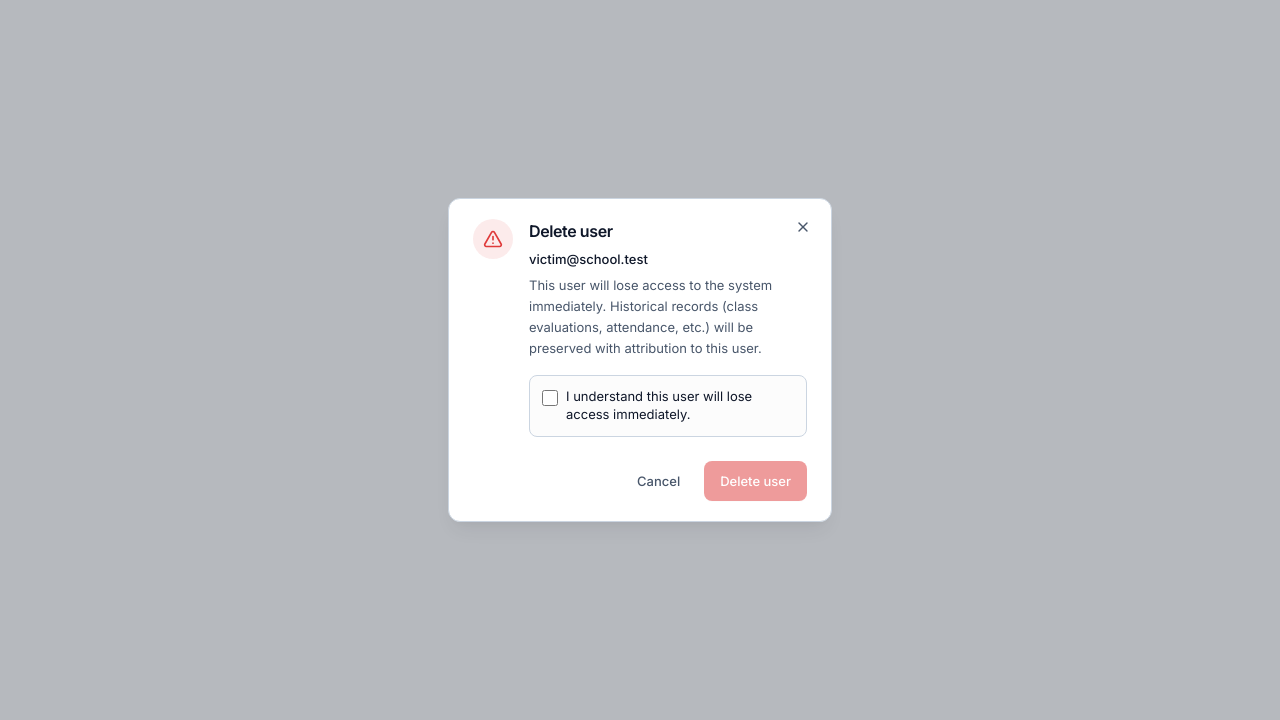
Test: DeleteUserDialog › on 409 active-assignments refusal: shows the backend's verbatim message inside the modal and keeps it open
The image size is (1280, 720).
Click the checkbox at (550, 398), box [542, 390, 558, 406]
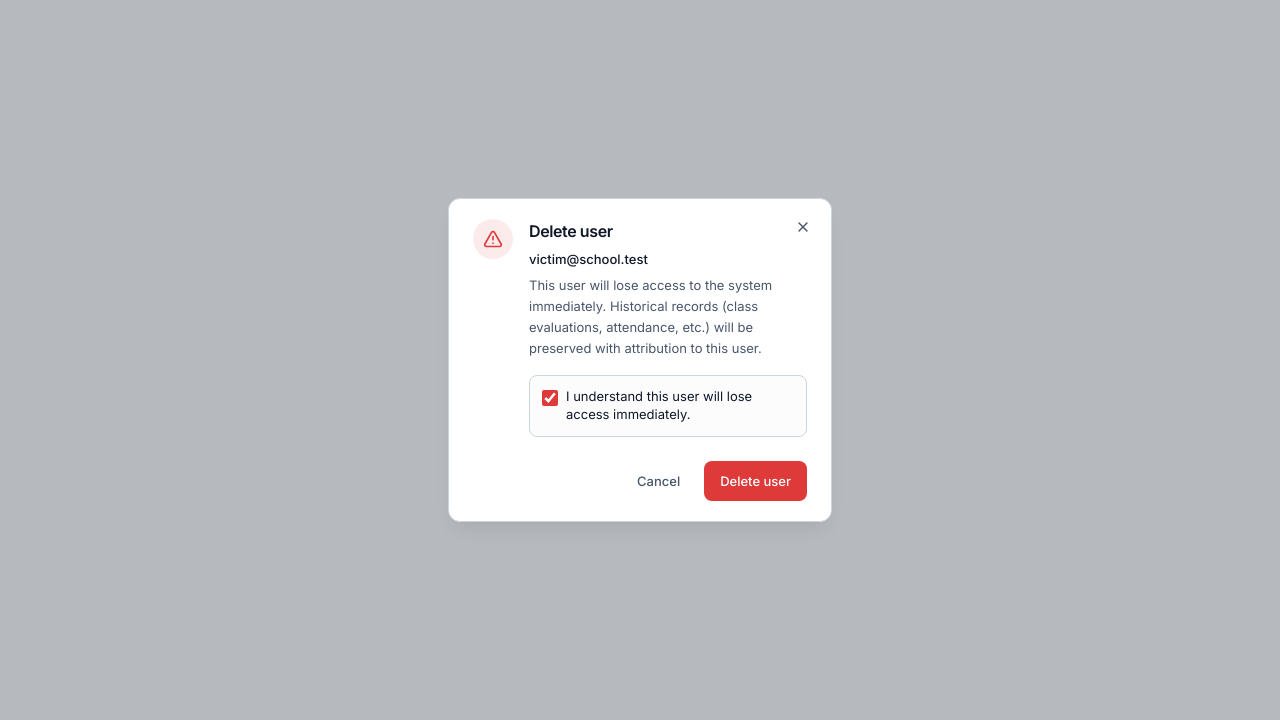
Click the button "Delete user" at (756, 481), box [704, 461, 807, 501]
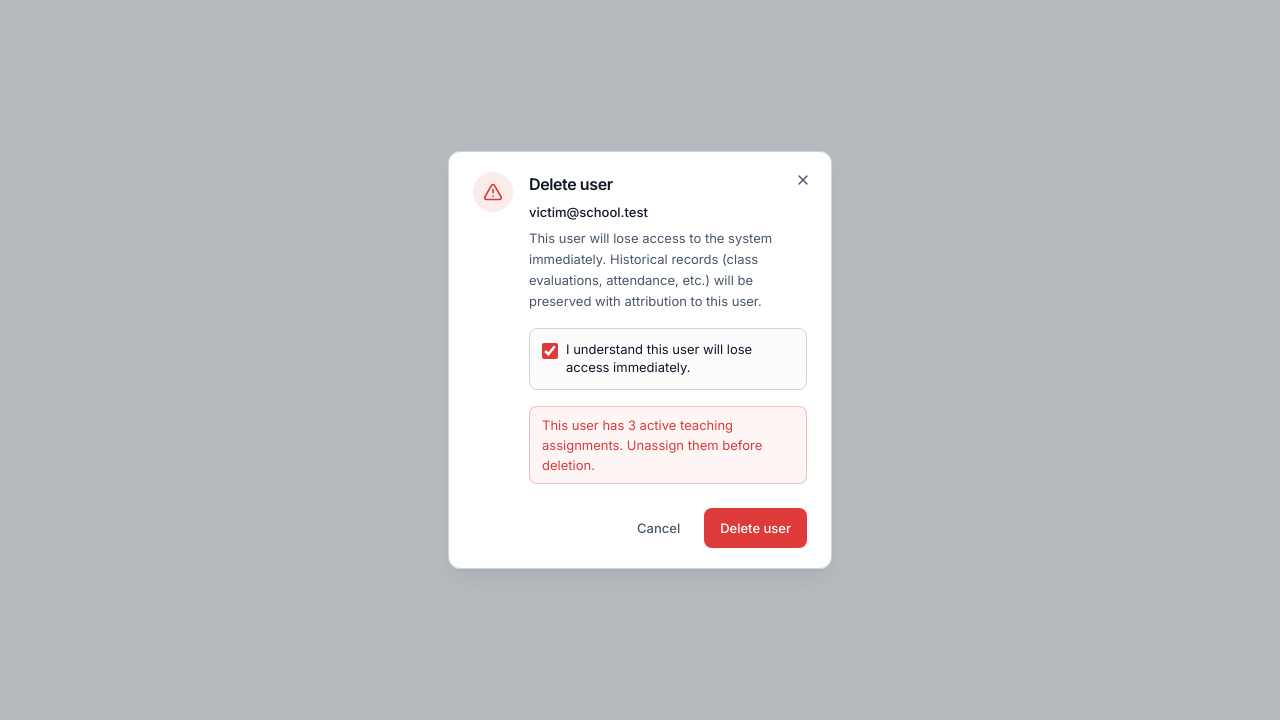
Expected: the message reads "This user has 3 active teaching assignments. Unassign them before deletion.", [542, 417, 762, 473]
